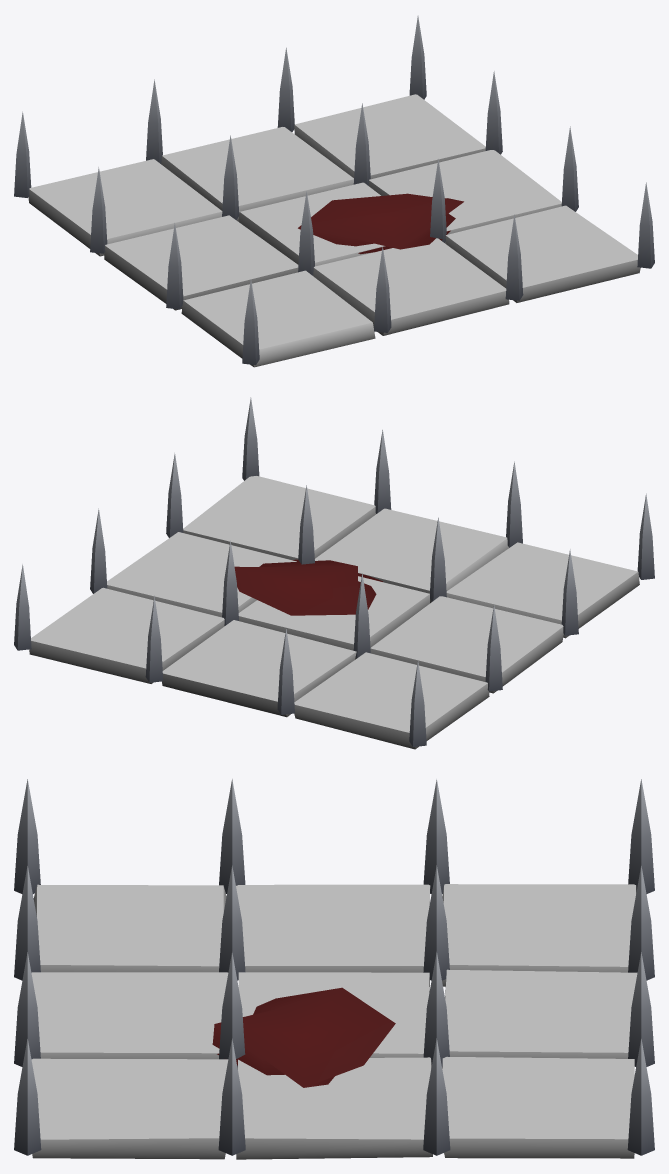
File: spike_plate.glb
The picture shows the model from 3 angles, top to bottom: view 1: azimuth 30°, elevation 25°; view 2: azimuth 150°, elevation 25°; view 3: azimuth 270°, elevation 25°; orthographic projection. The views are drawn at different scales.
Parts seen in each view (by area): view 1: spike_plate, spike_plate_trim; view 2: spike_plate, spike_plate_trim; view 3: spike_plate, spike_plate_trim.
Part boxes in pixels (x1=…): spike_plate: x1=28, y1=94, x2=640, y2=367; spike_plate_trim: x1=14, y1=15, x2=654, y2=364; spike_plate: x1=29, y1=476, x2=639, y2=749; spike_plate_trim: x1=14, y1=397, x2=654, y2=746; spike_plate: x1=31, y1=884, x2=637, y2=1159; spike_plate_trim: x1=14, y1=779, x2=654, y2=1155.
Size of the model in its own units: 1.03 by 0.22 by 1.03.
